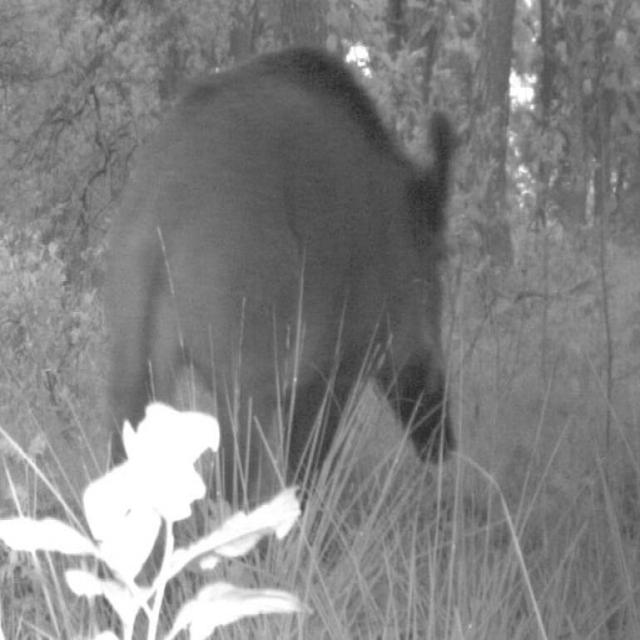pig: (92, 0, 465, 544)
